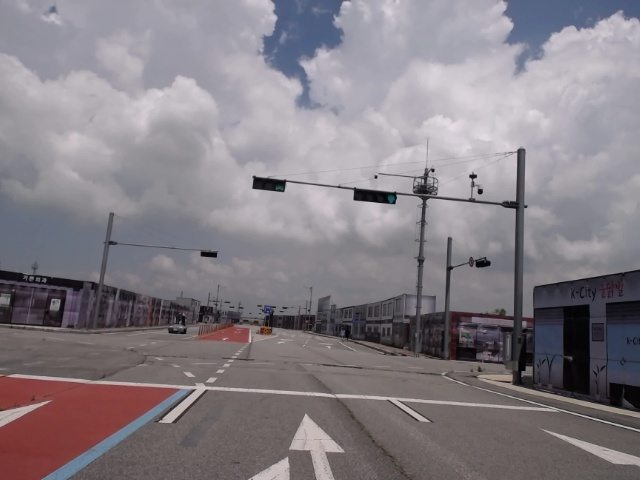straight_green_4: (354, 190, 397, 203)
